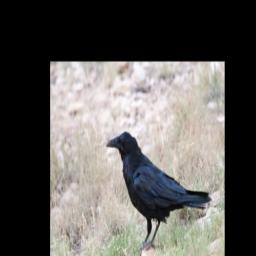Crow: (105, 131, 212, 256)
